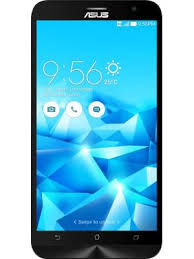asus: (25, 1, 170, 259)
